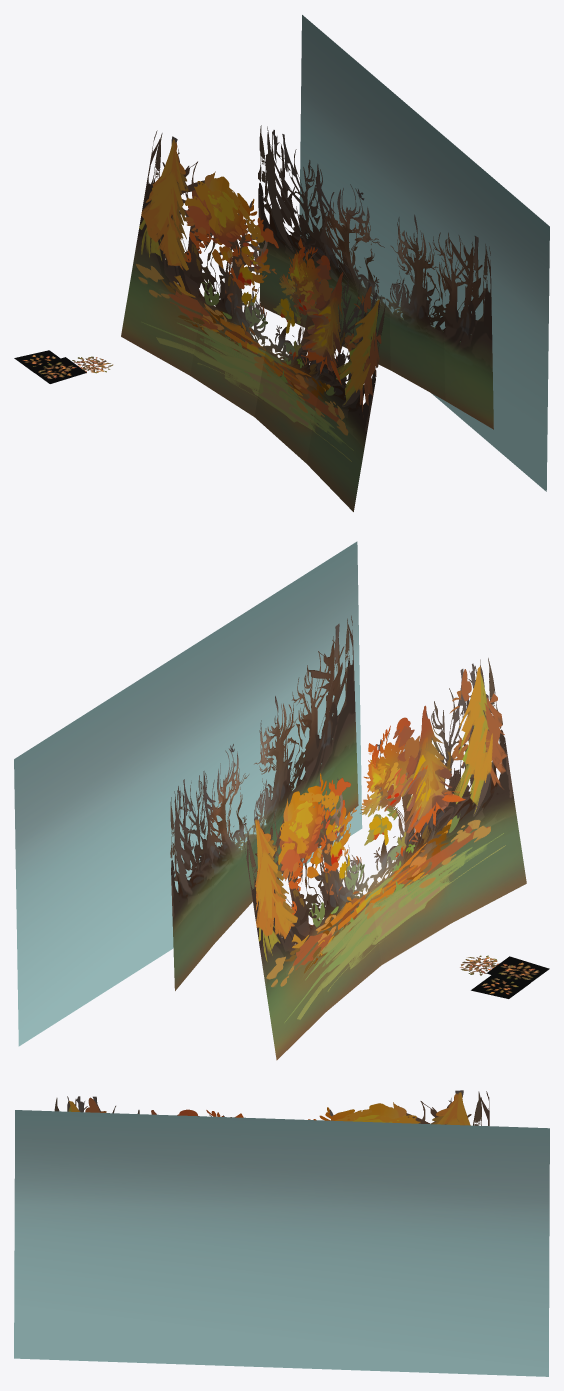
Rendered from FallDecorationBackground.fbx.
The picture shows the model from 3 angles, top to bottom: view 1: azimuth 30°, elevation 25°; view 2: azimuth 150°, elevation 25°; view 3: azimuth 270°, elevation 25°; orthographic projection. The views are drawn at different scales.
Visible parts, largest first — view 1: FallSky, FallFront, FallBack, Fall2C; view 2: FallSky, FallFront, FallBack, Fall2C, Fall1C; view 3: FallSky, FallFront.
Part boxes in pixels (x1,y1,x2,y2): FallSky: (299, 15, 549, 491); FallFront: (121, 130, 385, 511); FallBack: (258, 125, 493, 429); Fall2C: (29, 357, 86, 383); FallSky: (14, 541, 362, 1046); FallFront: (243, 658, 526, 1060); FallBack: (170, 615, 358, 990); Fall2C: (486, 956, 549, 985); Fall1C: (471, 975, 530, 998); FallSky: (14, 1110, 549, 1376); FallFront: (54, 1090, 489, 1125).
Size of the model in its own units: 4760 by 3256 by 6253.
Materials: 6 (6 with a texture image).
